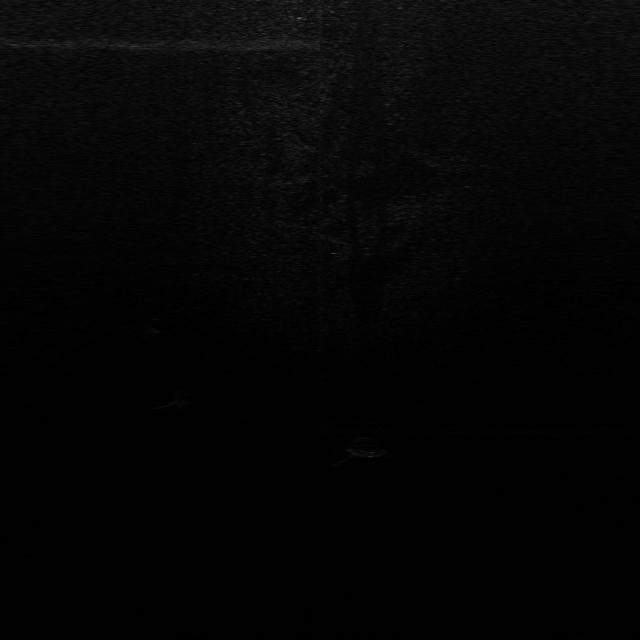ball: (167, 387, 202, 407)
circle cage: (146, 316, 170, 332)
tyre: (344, 436, 390, 458)
